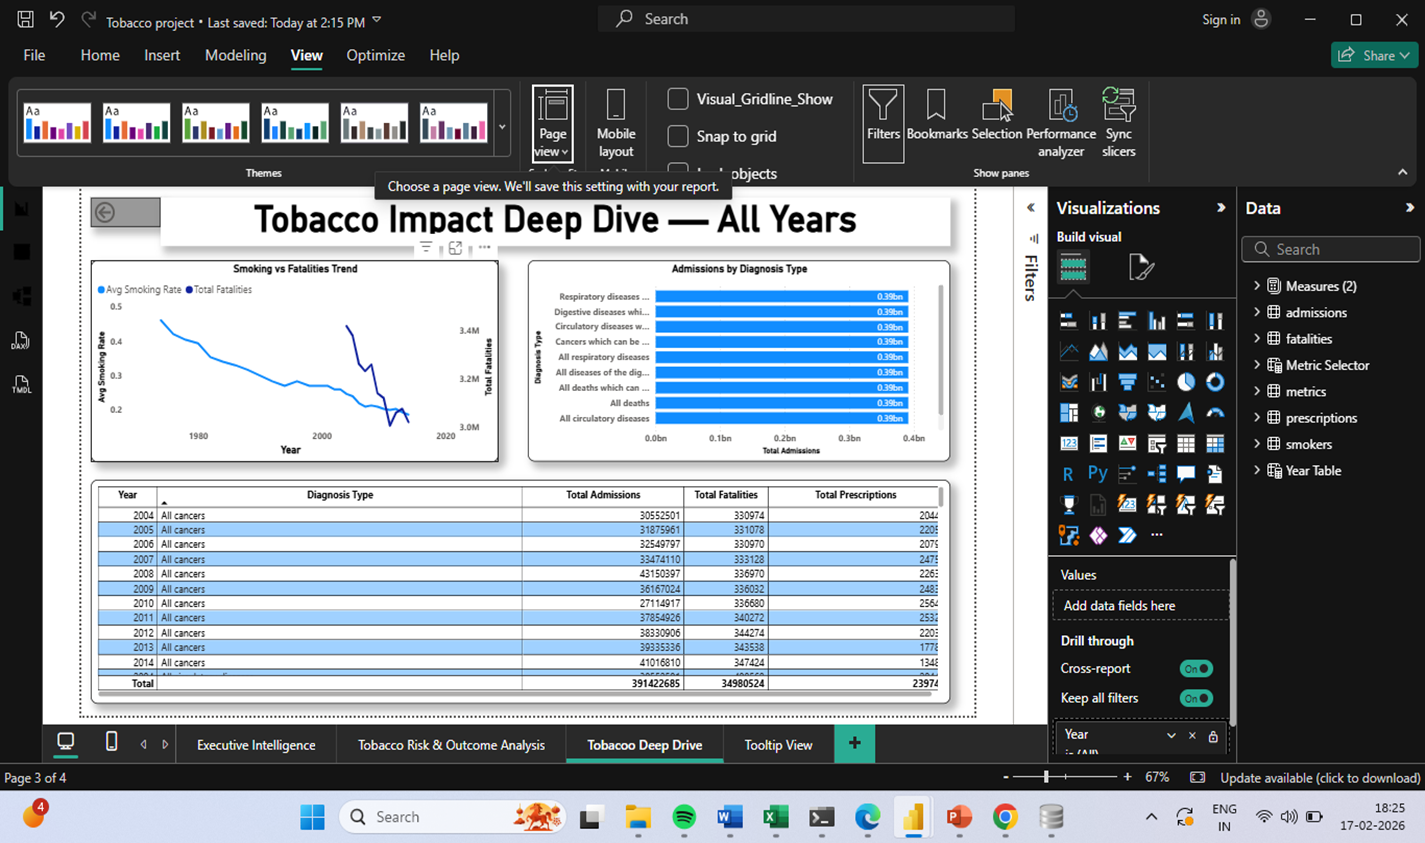

The page's visual inventory and layout, read from the dashboard file:
{"tool":"powerbi","page":{"name":"Tobacoo Deep Drive","canvas":[1280,720],"ordinal":2},"visuals":[{"type":"actionButton","box":[13.4,14.9,100.1,40.3],"z":0},{"type":"textbox","box":[113.5,14.9,1130.8,65.7],"z":1000},{"type":"lineChart","title":"Smoking vs Fatalities Trend","fields":{"Category":["Year Table.Year"],"Y2":["Measures (2).Total Fatalities"],"Y":["Measures (2).Avg Smoking Rate"]},"box":[13.4,100.1,584.1,274.9],"z":2000},{"type":"clusteredBarChart","title":"Admissions by Diagnosis Type","fields":{"Category":["fatalities.Diagnosis Type"],"Y":["Measures (2).Total Admissions"]},"box":[640,100.8,604.7,273.8],"z":3000},{"type":"tableEx","fields":{"Values":["Year Table.Year","fatalities.Diagnosis Type","Measures (2).Total Admissions","Measures (2).Total Fatalities","Measures (2).Total Prescriptions"]},"box":[13.4,398.8,1230.9,304.7],"z":4000}]}

Visuals, with their boxes on the page's 1280x720 design canvas (x1, y1, x2, y2). These are canvas units, not pixel positions in the 1425x843 screenshot, which may show the page scaled, cropped or inside an application window:
actionButton: 13/15/114/55
textbox: 114/15/1244/81
"Smoking vs Fatalities Trend" lineChart: 13/100/598/375
"Admissions by Diagnosis Type" clusteredBarChart: 640/101/1245/375
tableEx - Year Table.Year x fatalities.Diagnosis Type: 13/399/1244/704
